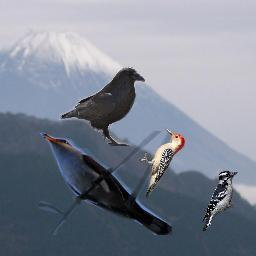Crow: (59, 66, 146, 146)
Cuckoo: (39, 131, 172, 235)
Woodpecker: (138, 127, 186, 198), (202, 170, 238, 231)
